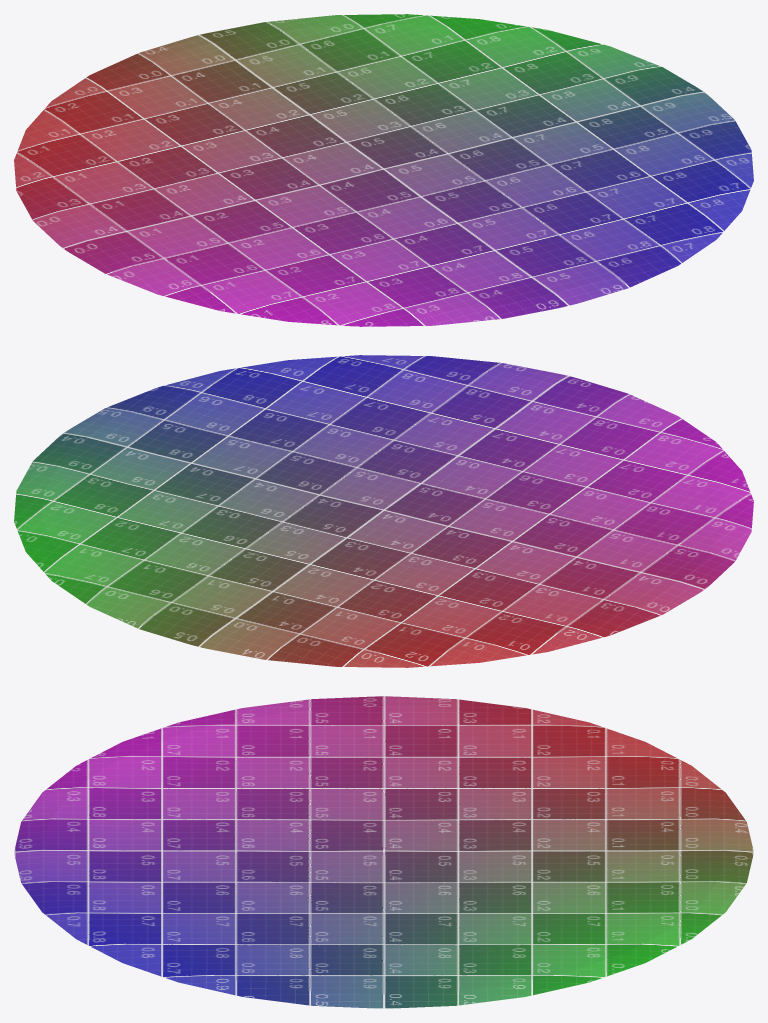
Rendered from uv_disc_rework.fbx.
3 views of the same model, one above another, from view 1: azimuth 30°, elevation 25°; view 2: azimuth 150°, elevation 25°; view 3: azimuth 270°, elevation 25° (orthographic).
Visible parts, largest first — view 1: UV_Disc_Rework; view 2: UV_Disc_Rework; view 3: UV_Disc_Rework.
Boxes of the visible parts, x1=… form: UV_Disc_Rework: x1=14, y1=14, x2=753, y2=326; UV_Disc_Rework: x1=14, y1=355, x2=753, y2=667; UV_Disc_Rework: x1=14, y1=696, x2=753, y2=1008.
Bounding box in the file's own units: 200 × 0.6374 × 200.
